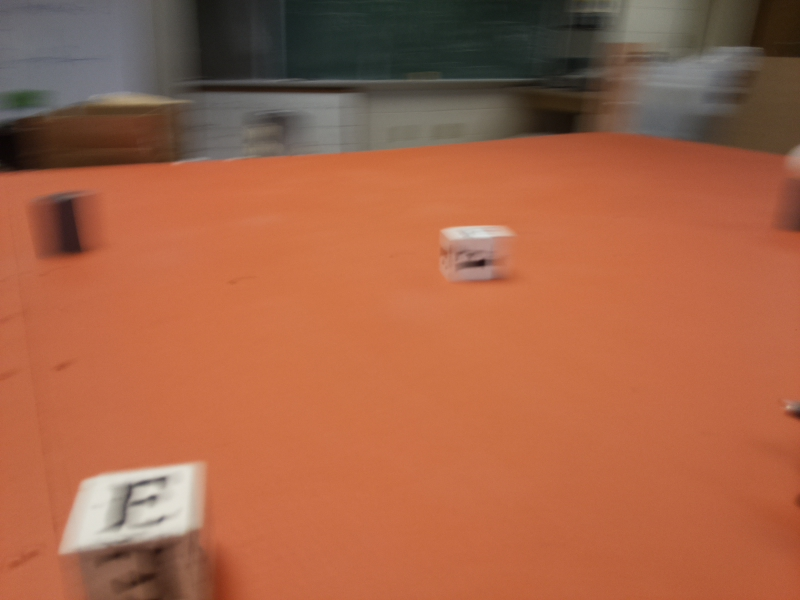blockE: (74, 464, 204, 600)
obstacle: (36, 188, 94, 260)
